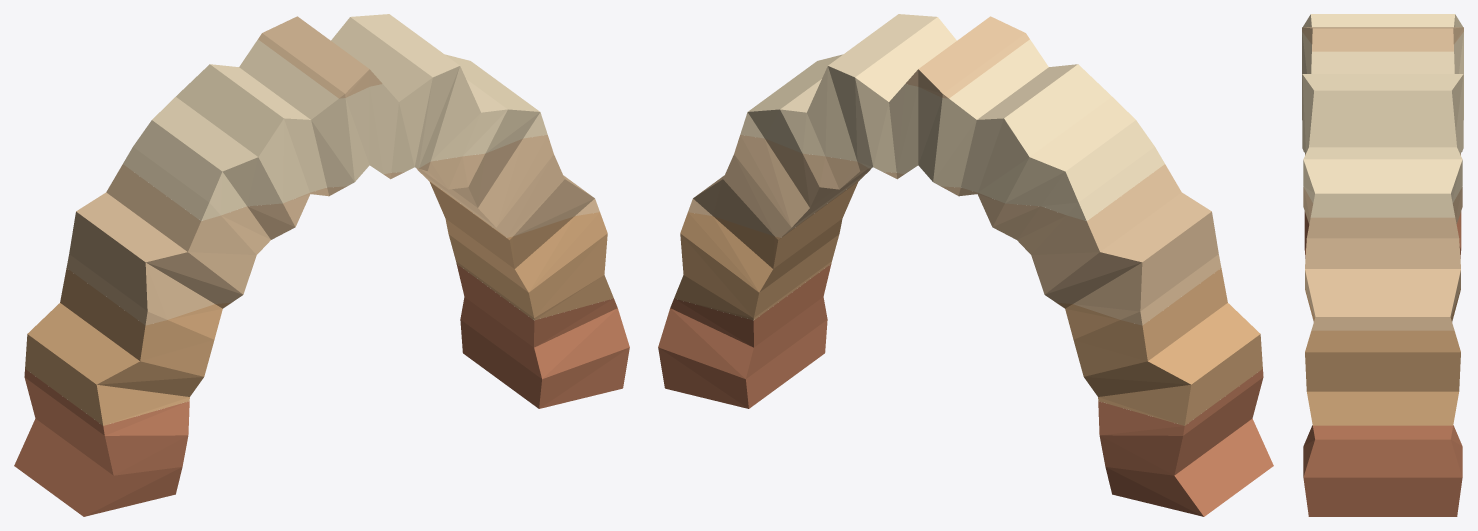
File: desert-canyons-and-oases-natural-arch-small-41e8d833__20918.glb
3 views of the same model, side by side, from view 1: azimuth 30°, elevation 25°; view 2: azimuth 150°, elevation 25°; view 3: azimuth 270°, elevation 25° (orthographic). The views are drawn at different scales.
Parts seen in each view (by area): view 1: natural-arch-small; view 2: natural-arch-small; view 3: natural-arch-small.
Part boxes in pixels (x1,y1,x2,y2): natural-arch-small: [14, 14, 629, 516]; natural-arch-small: [658, 14, 1273, 516]; natural-arch-small: [1302, 14, 1463, 516].
Size of the model in its own units: 4.5 by 3.02 by 1.2.
